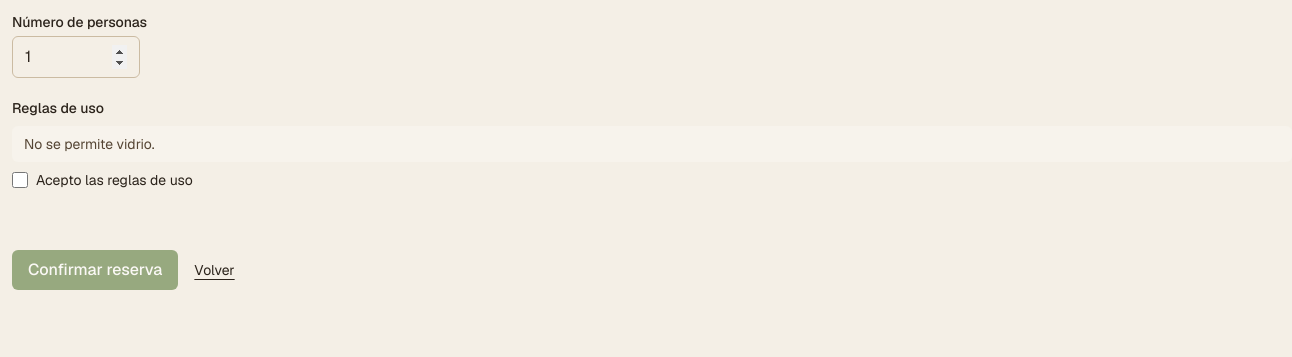
Test: H7. Reserva de un área común › AC2: al confirmar muestra el comprobante con número, área, fecha, franja, personas y Confirmada
The width and height of the screenshot is (1292, 357).
Replace the text in the number field labelled "Número de personas" with "4" at (76, 57), box x1=12 y1=36 x2=140 y2=78
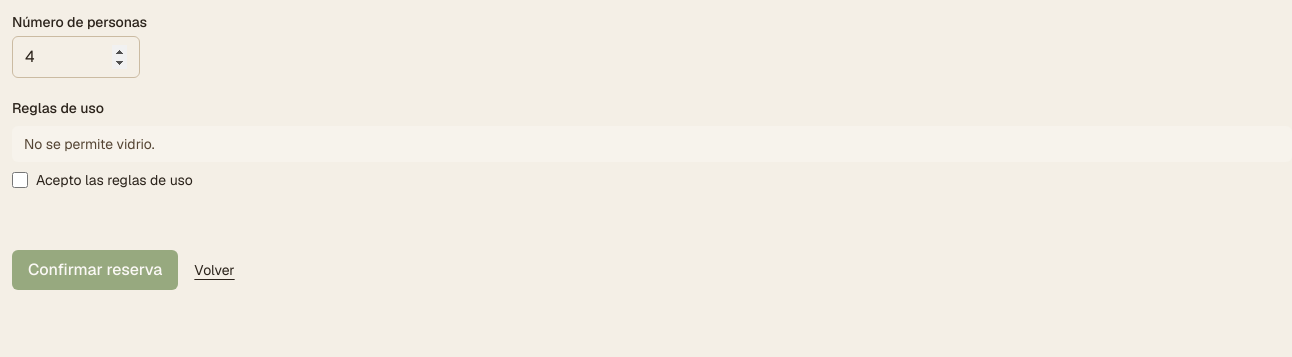
Click the checkbox labelled "Acepto las reglas de uso" at (20, 180), box x1=12 y1=172 x2=28 y2=188
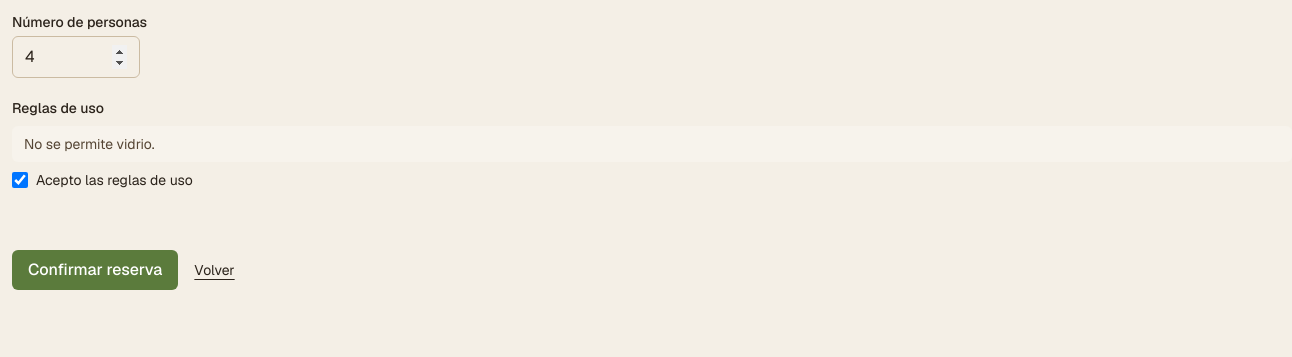
Click the button "Confirmar reserva" at (95, 270), box x1=12 y1=250 x2=178 y2=290
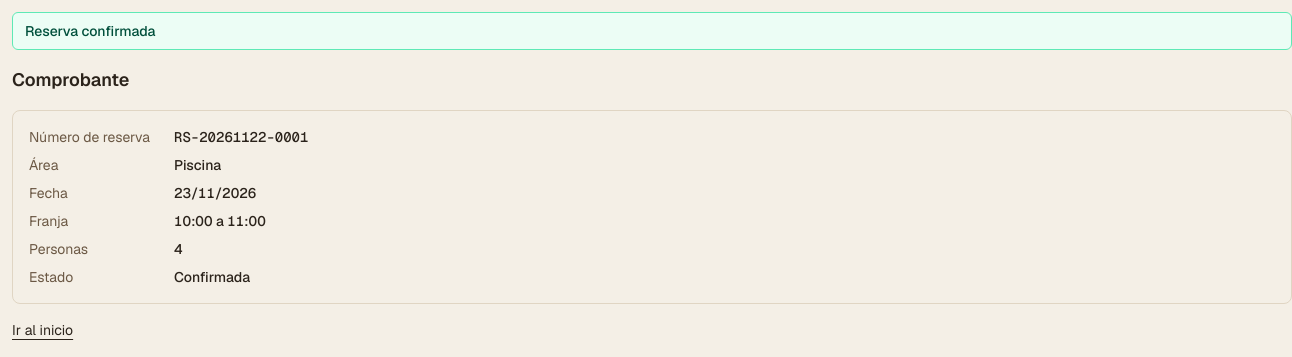
Expected: the message reads "Reserva confirmada", x1=25 y1=22 x2=156 y2=40
Expected: the text "RS-20261122-0001" is shown, x1=174 y1=128 x2=308 y2=146
Expected: the text "Piscina" is shown, x1=174 y1=156 x2=221 y2=174
